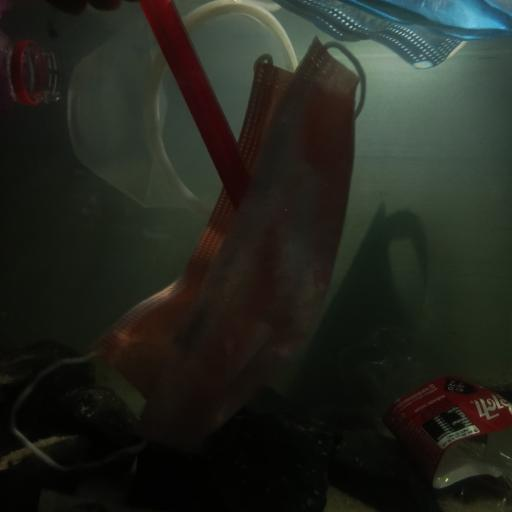mask: (28, 42, 363, 445), (278, 0, 511, 70)
plastic_bottle: (349, 332, 512, 512)
plastic_cup: (63, 4, 294, 203)
plastic_straw: (141, 0, 251, 208)
